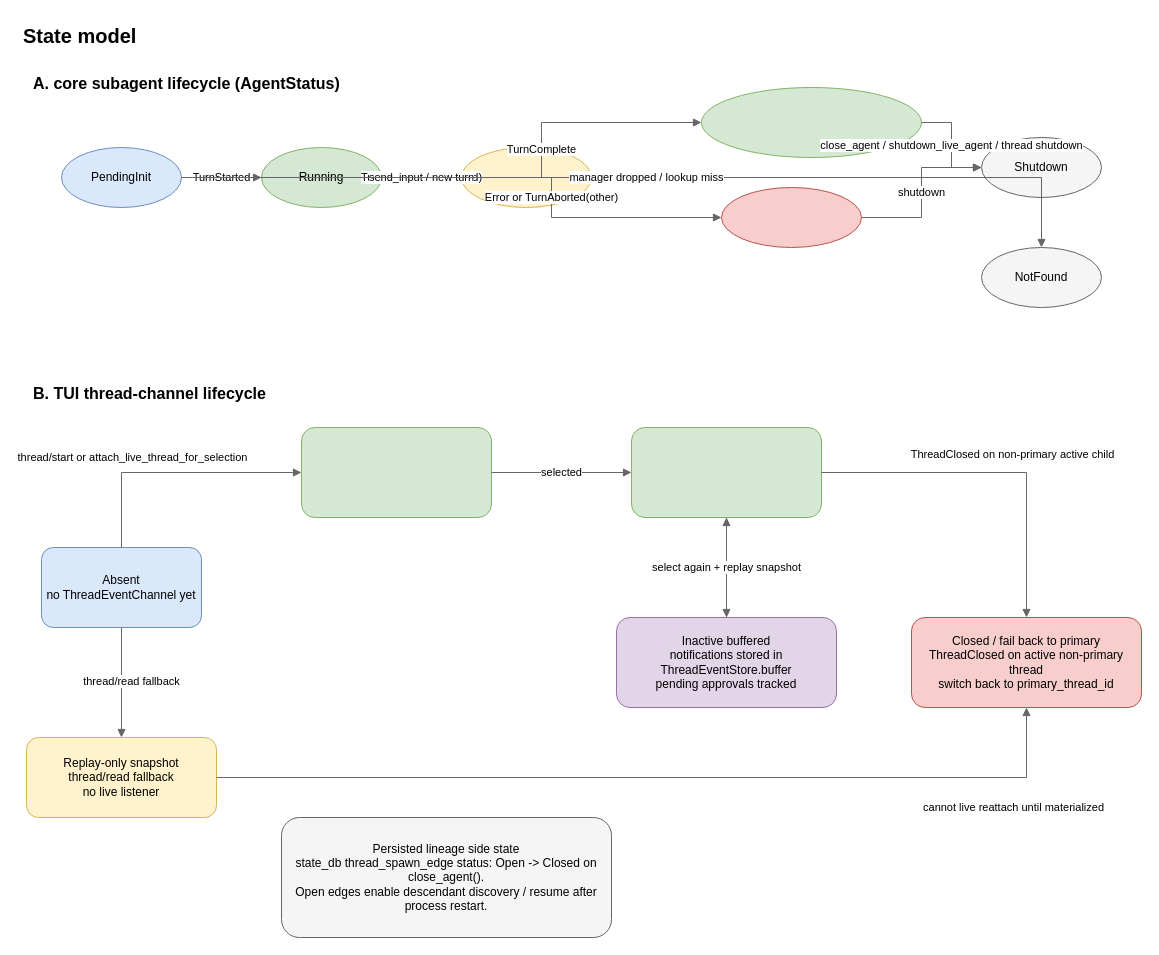
Some shapes in this 1159 by 955 pixel diagram are drawn without their labels. The box of each missing label's shape, as (x1, y1, x2, y2) in pixels:
Active thread active_thread_id == thread_id events rendered immediately: (630, 426, 822, 518)
Completed(final assistant message): (700, 86, 922, 158)
Errored: (720, 186, 862, 248)
Interrupted: (460, 146, 592, 208)
Live attached resume_thread attached listener store.active=true: (300, 426, 492, 518)
